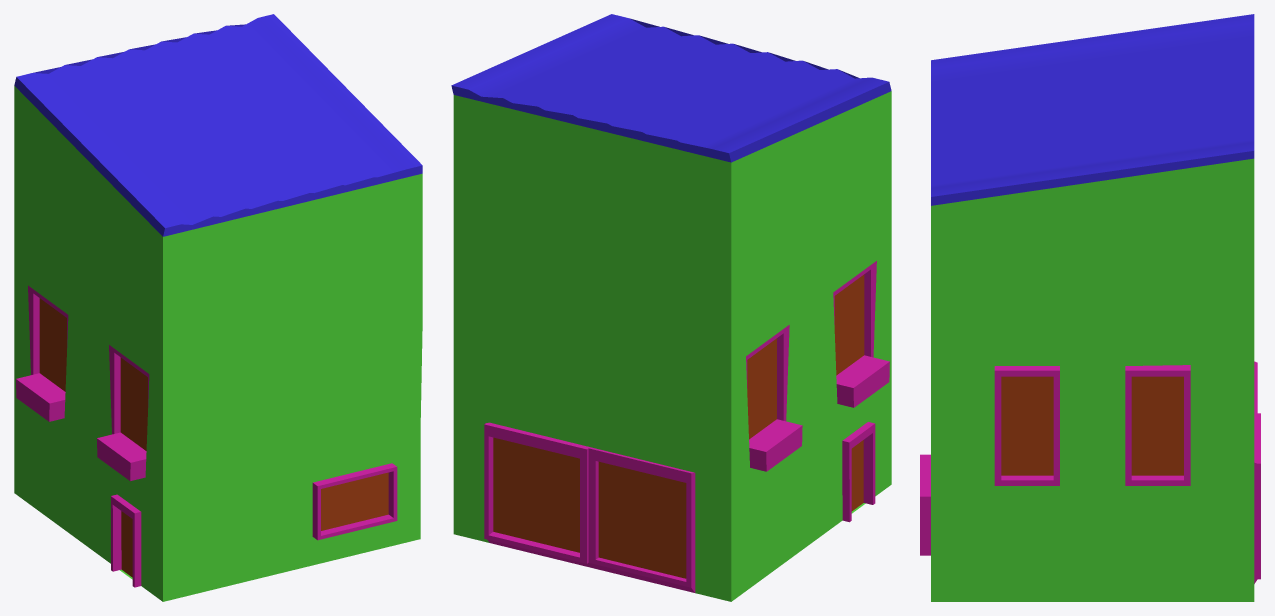
File: mesh_maison_1.fbx
The picture shows the model from 3 angles, left to right: view 1: azimuth 30°, elevation 25°; view 2: azimuth 150°, elevation 25°; view 3: azimuth 270°, elevation 25°; orthographic projection. The views are drawn at different scales.
Visible parts, largest first — view 1: maison1; view 2: maison1; view 3: maison1.
Part boxes in pixels (left/top/right/bottom): maison1: left=14, top=14, right=422, bottom=601; maison1: left=451, top=14, right=891, bottom=601; maison1: left=920, top=14, right=1260, bottom=601.
Size of the model in its own units: 165 by 231 by 158.
